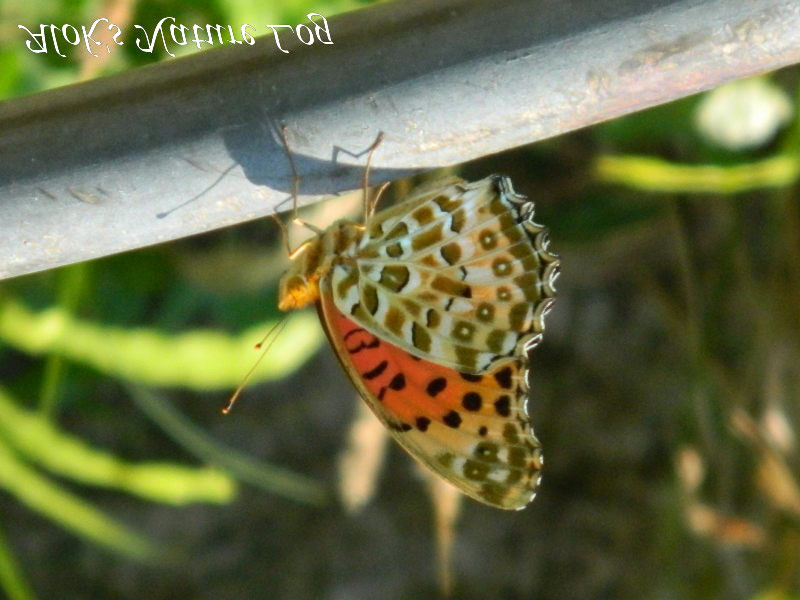Argyreus hyperbius: (210, 107, 563, 518)
butterfly: (212, 109, 565, 520)
